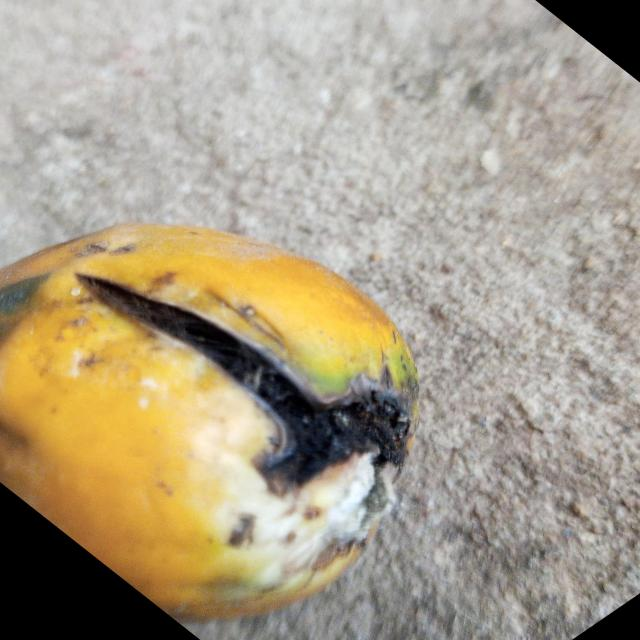damaged: (0, 223, 419, 630)
